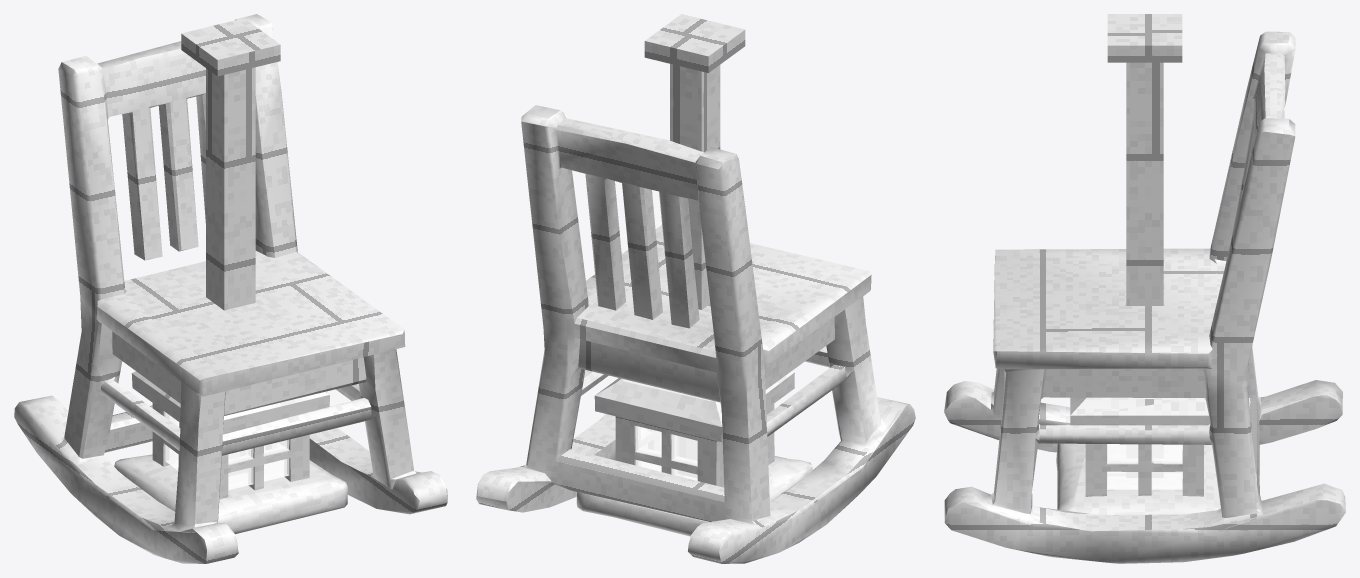
3 renders of one model, left to right at view 1: azimuth 30°, elevation 25°; view 2: azimuth 150°, elevation 25°; view 3: azimuth 270°, elevation 25°, orthographic. The views are drawn at different scales.
Parts seen in each view (by area): view 1: Chair_Frame, Lantern_Post, Chair_Cushion, Lantern_Head, Lantern_Panes; view 2: Chair_Frame, Lantern_Post, Lantern_Head, Chair_Cushion, Lantern_Panes; view 3: Chair_Frame, Lantern_Post, Lantern_Head, Chair_Cushion, Lantern_Panes.
Part boxes in pixels (x1,y1,x2,y2): Chair_Frame: (14,14,447,563); Lantern_Post: (181,18,280,485); Chair_Cushion: (114,446,347,534); Lantern_Head: (131,371,329,499); Lantern_Panes: (165,412,289,490); Chair_Frame: (476,105,915,563); Lantern_Post: (644,14,745,479); Lantern_Head: (594,371,794,487); Chair_Cushion: (576,456,812,536); Lantern_Panes: (623,379,711,480); Chair_Frame: (944,31,1345,563); Lantern_Post: (1107,14,1182,486); Lantern_Head: (1070,397,1210,496); Chair_Cushion: (1056,443,1220,515); Lantern_Panes: (1107,444,1182,489).
Bounding box in the file's own units: 0.62 × 1.12 × 0.86.
Materials: 3 (3 with a texture image).
